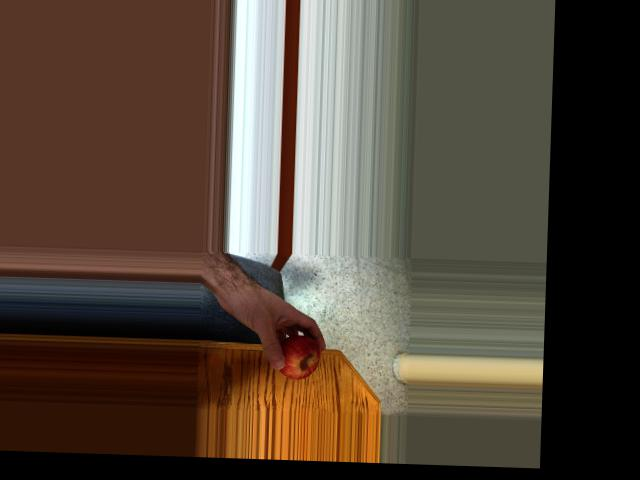apple: (274, 333, 322, 378)
